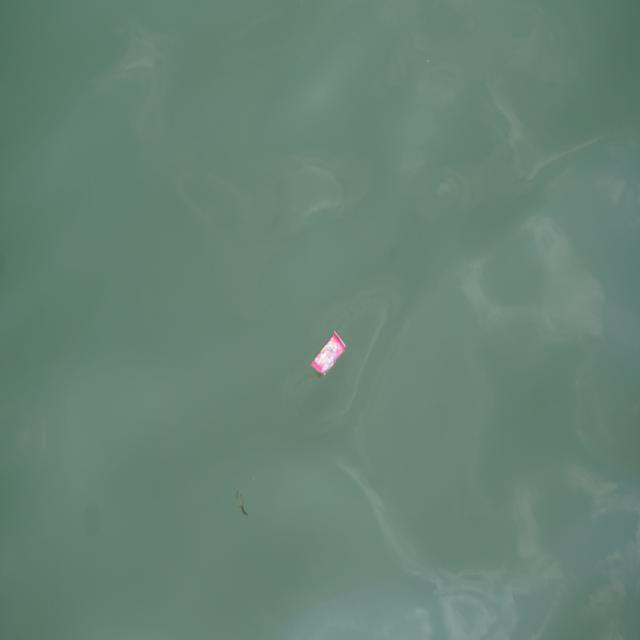Bungkus Makanan: (312, 331, 348, 377)
